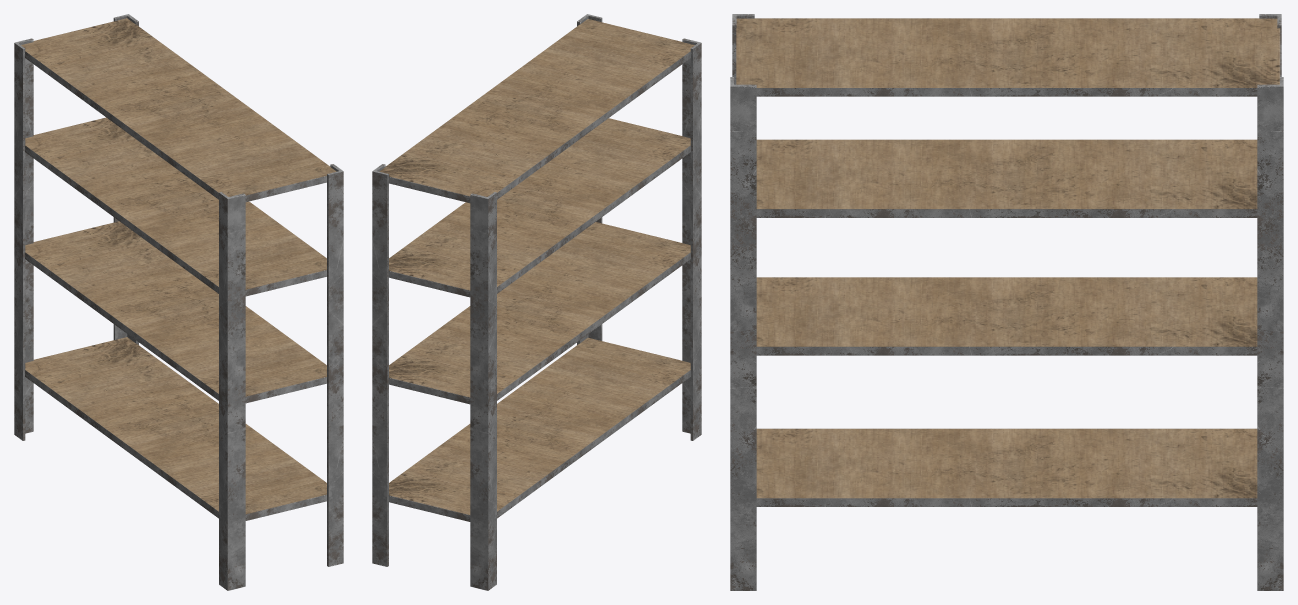
Rendered from iron_shelf_smalldownload.glb.
3 views of the same model, side by side, from view 1: azimuth 30°, elevation 25°; view 2: azimuth 150°, elevation 25°; view 3: azimuth 270°, elevation 25° (orthographic). The views are drawn at different scales.
Visible parts, largest first — view 1: Cube.003, Cube.001, Cube.002, Cube.004, Cube, Cube.006, Cube.005; view 2: Cube.003, Cube.001, Cube.002, Cube.004, Cube.006, Cube, Cube.007; view 3: Cube.003, Cube.002, Cube.001, Cube.004, Cube.005, Cube.007.
Part boxes in pixels (left/top/right/bottom): Cube.003: left=21, top=18, right=336, bottom=202; Cube.001: left=25, top=337, right=326, bottom=520; Cube.002: left=25, top=221, right=326, bottom=403; Cube.004: left=25, top=117, right=326, bottom=296; Cube: left=219, top=192, right=245, bottom=590; Cube.006: left=14, top=38, right=33, bottom=440; Cube.005: left=327, top=164, right=343, bottom=566; Cube.003: left=379, top=19, right=694, bottom=202; Cube.001: left=388, top=337, right=690, bottom=521; Cube.002: left=388, top=222, right=690, bottom=404; Cube.004: left=388, top=118, right=690, bottom=297; Cube.006: left=470, top=192, right=496, bottom=590; Cube: left=682, top=38, right=701, bottom=440; Cube.007: left=372, top=164, right=388, bottom=566; Cube.003: left=736, top=18, right=1280, bottom=96; Cube.002: left=756, top=277, right=1257, bottom=355; Cube.001: left=756, top=428, right=1257, bottom=506; Cube.004: left=756, top=139, right=1257, bottom=217; Cube.005: left=730, top=77, right=756, bottom=590; Cube.007: left=1257, top=77, right=1283, bottom=590.
Bounding box in the file's own units: 62.97 × 205 × 203.
1 material, 1 textured.
